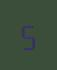five: (19, 20, 36, 50)
